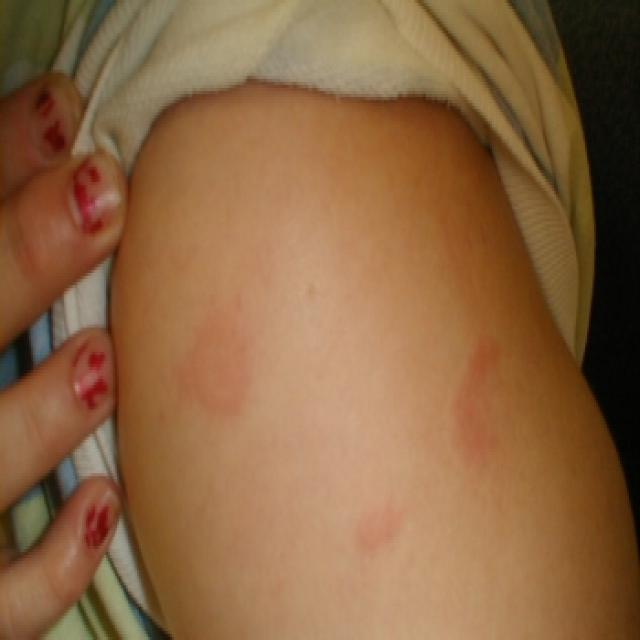hives: (173, 251, 567, 569)
